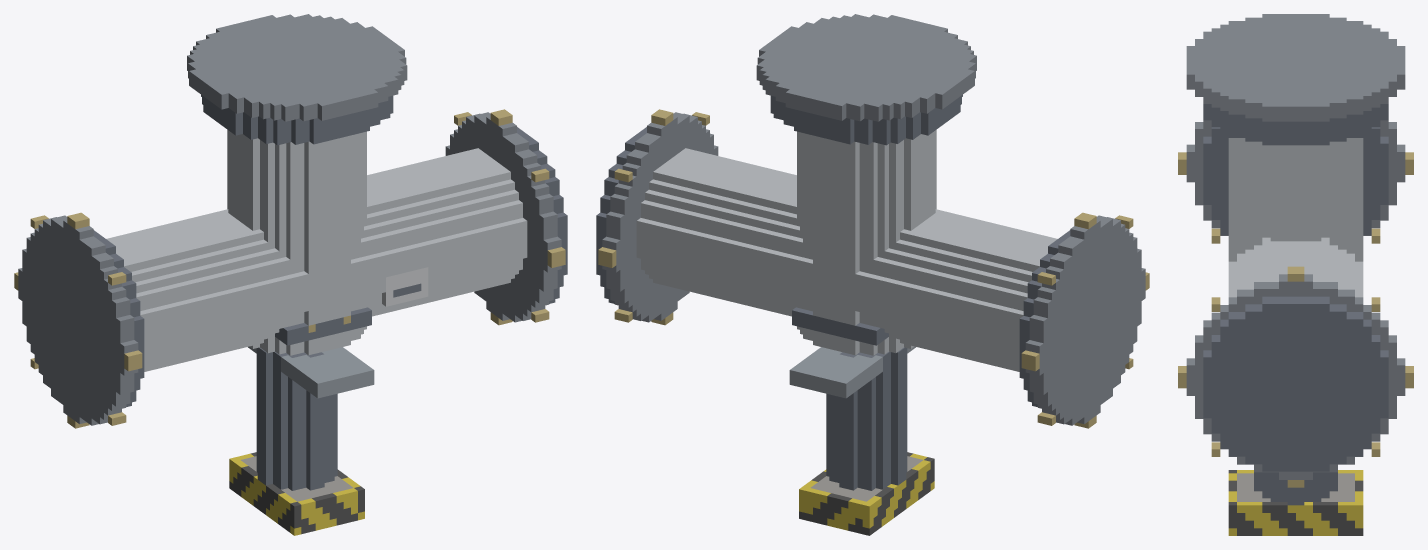
File: pipe_tee.glb
3 renders of one model, left to right at view 1: azimuth 30°, elevation 25°; view 2: azimuth 150°, elevation 25°; view 3: azimuth 270°, elevation 25°, orthographic. The views are drawn at different scales.
Visible parts, largest first — view 1: pipe_tee; view 2: pipe_tee; view 3: pipe_tee.
Part boxes in pixels (left/top/right/bottom): pipe_tee: left=14, top=14, right=567, bottom=535; pipe_tee: left=596, top=14, right=1149, bottom=535; pipe_tee: left=1178, top=14, right=1413, bottom=535.
Bounding box in the file's own units: 2 × 1.88 × 0.875.
